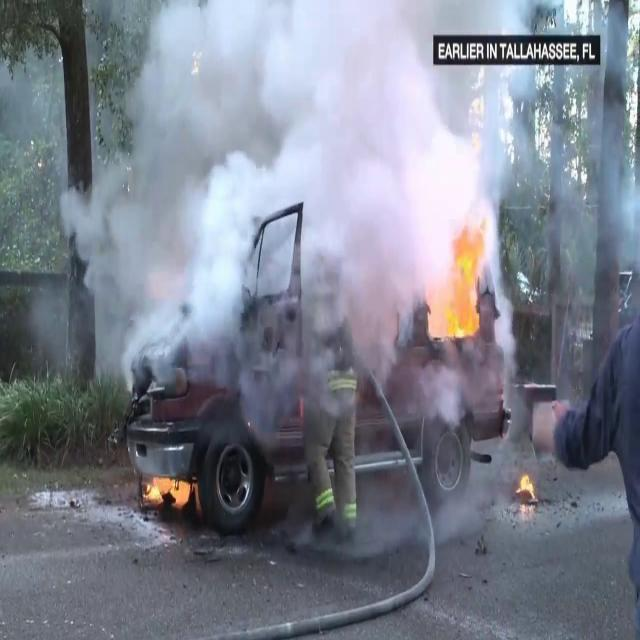Fire: (436, 219, 490, 345), (142, 463, 195, 515), (516, 462, 538, 506)
Smoke: (70, 0, 520, 368), (537, 75, 640, 338)
